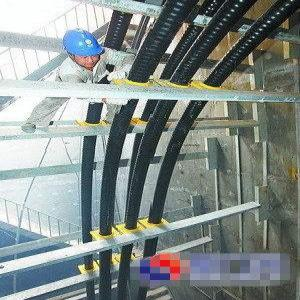blue: (61, 26, 105, 70)
